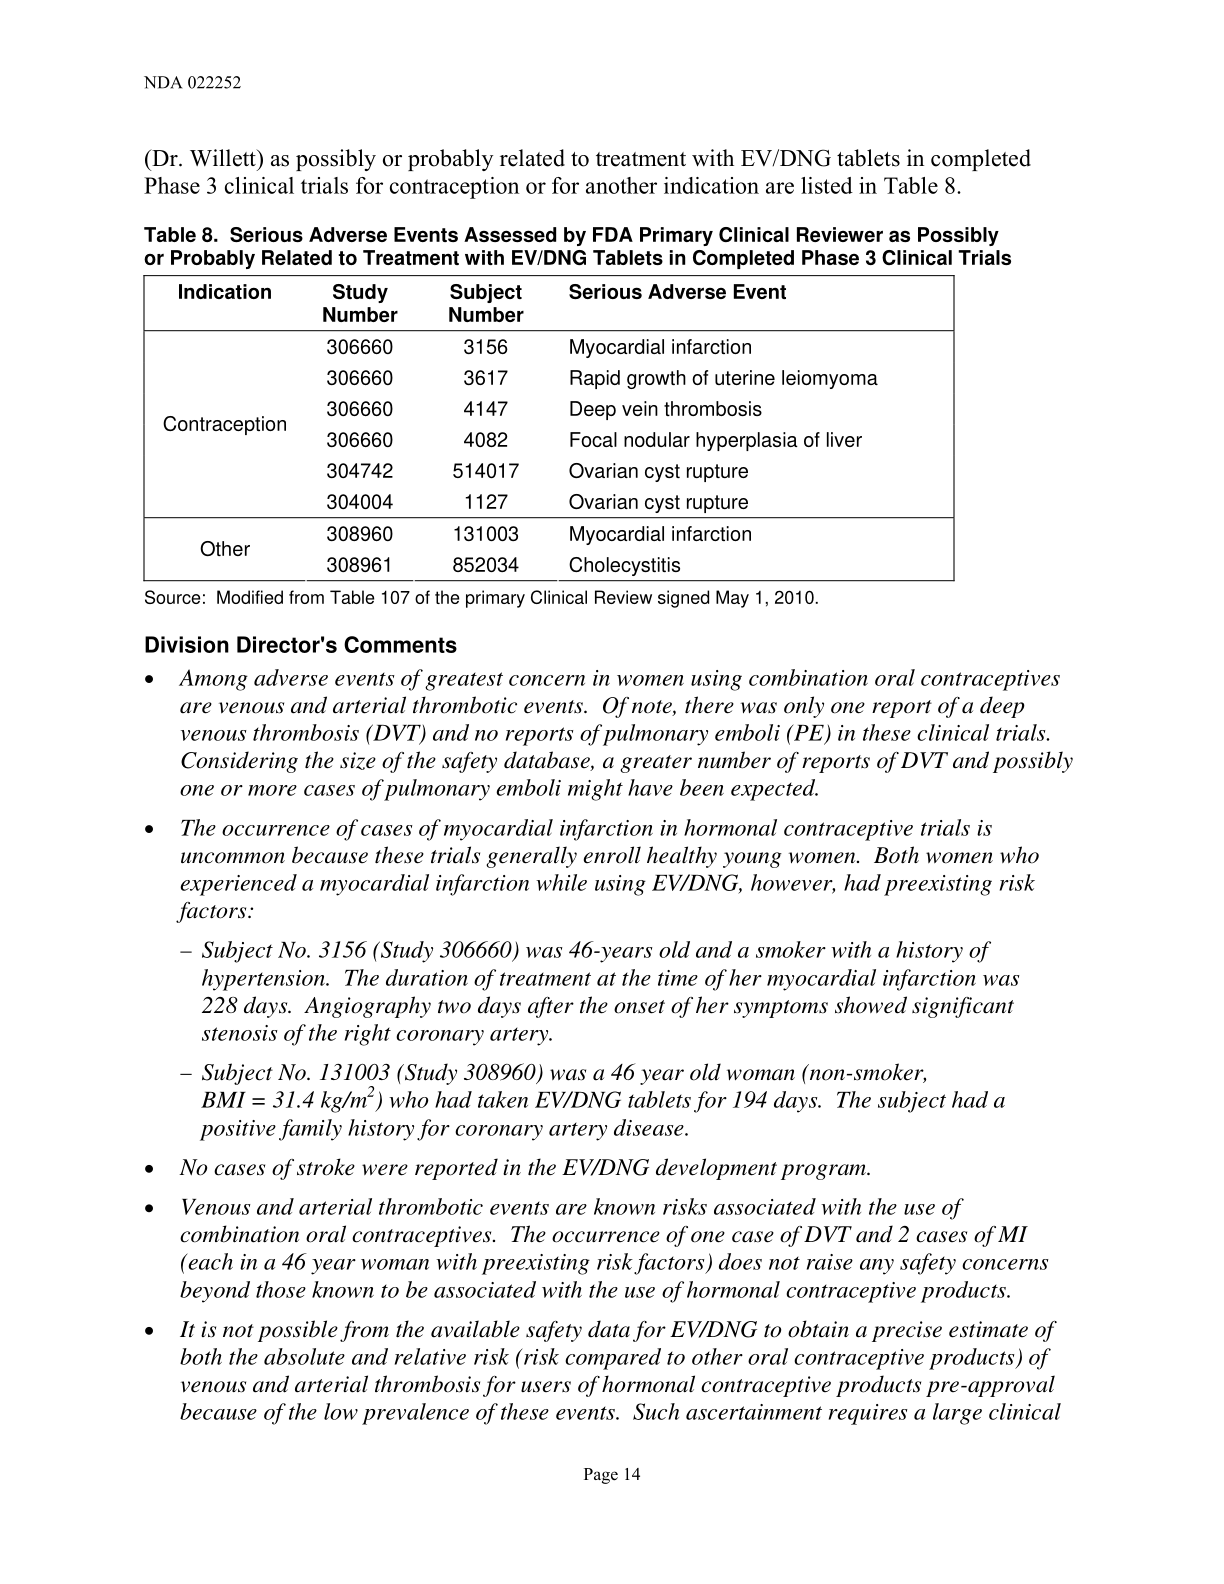partial_lined_merged_cells: (141, 273, 957, 582)
